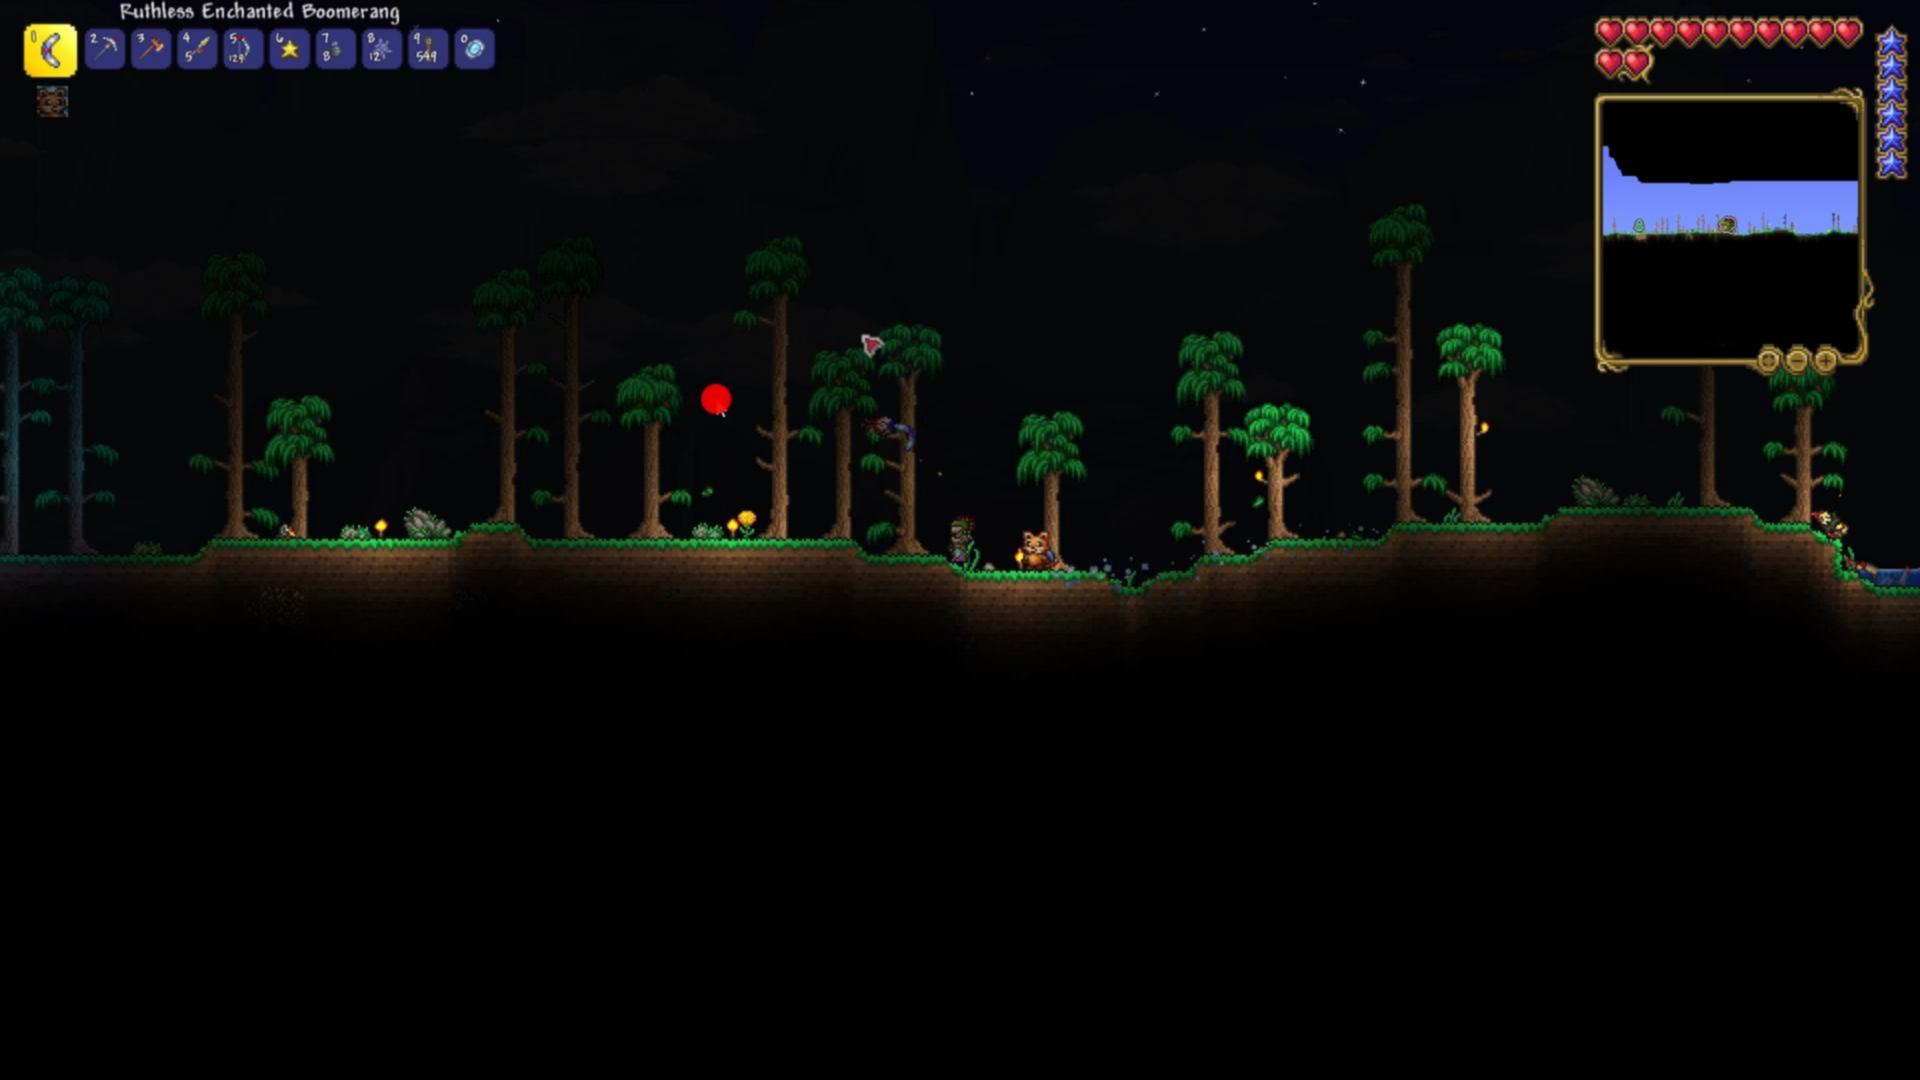dirt: (1163, 508, 1553, 589), (1573, 492, 1870, 593), (510, 517, 862, 571), (193, 516, 480, 564), (0, 538, 193, 588)
